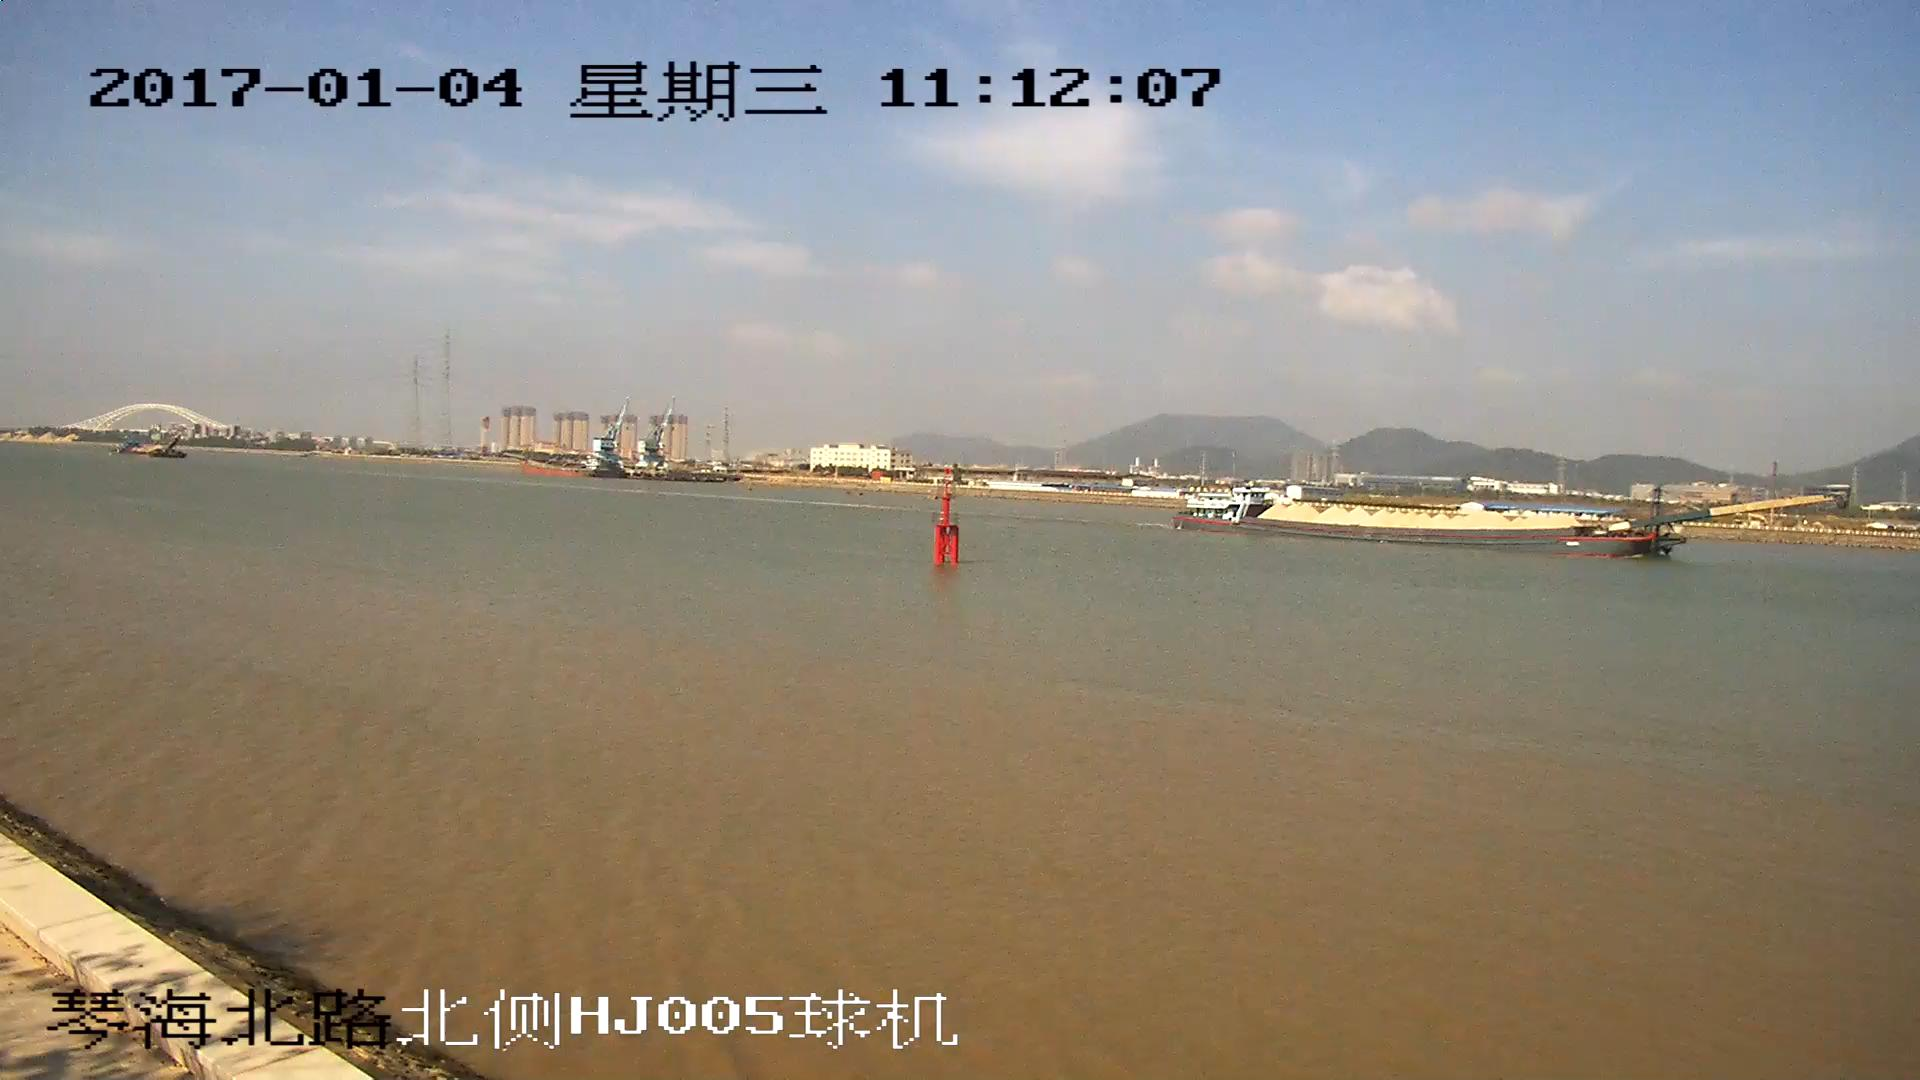ore carrier: (1174, 477, 1826, 560)
